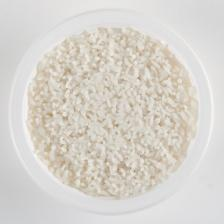rice: (26, 26, 197, 198)
